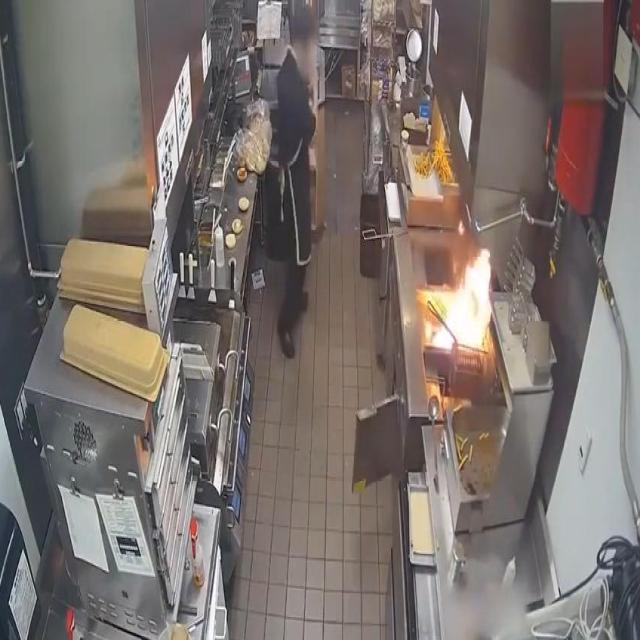smoke: (424, 236, 494, 354), (456, 218, 466, 236)
